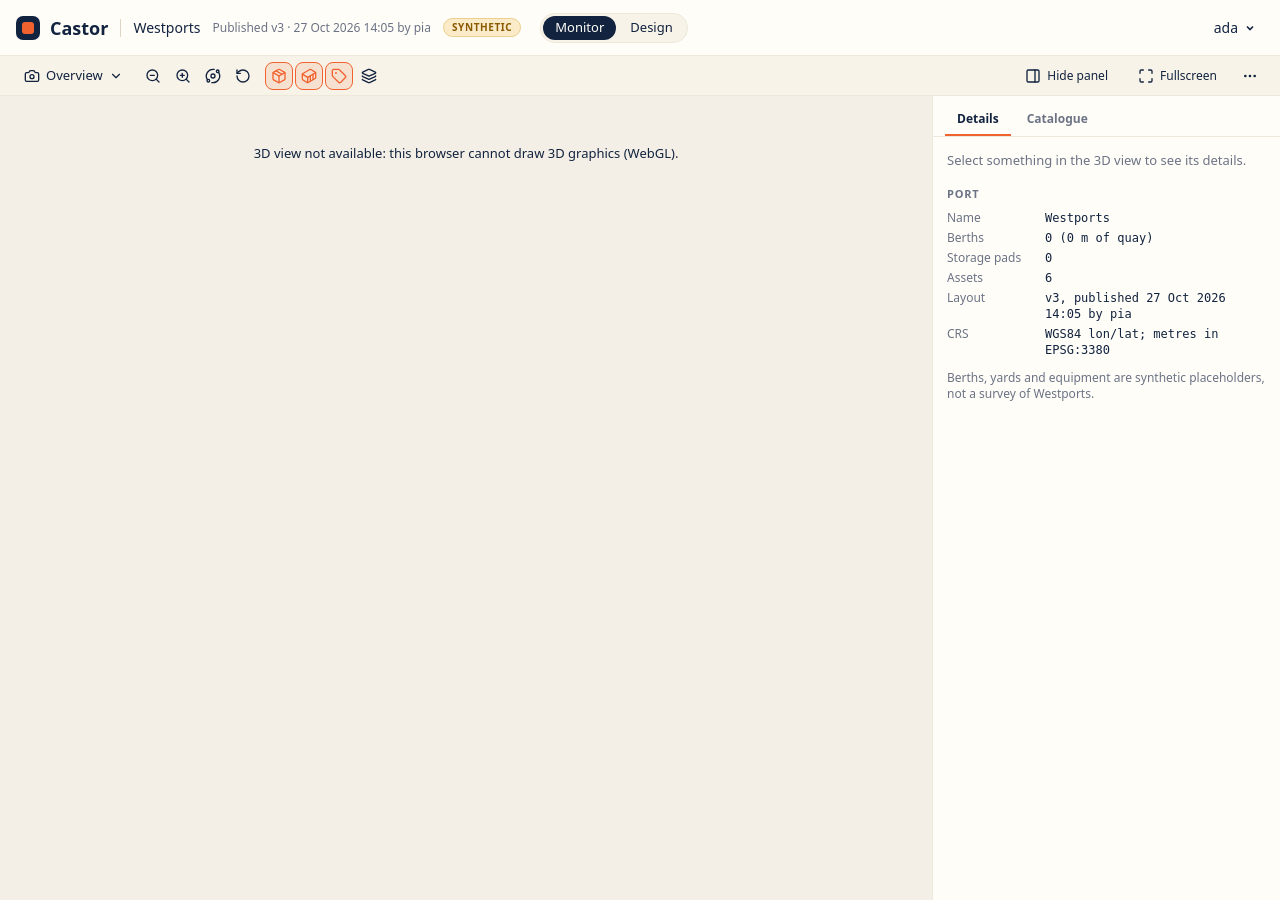
Test: app shell › switches an editor to Design with its panel tabs, without leaving the page
This screenshot has width=1280, height=900.
Click the button "Design".
click(652, 28)  # box [618, 16, 685, 40]
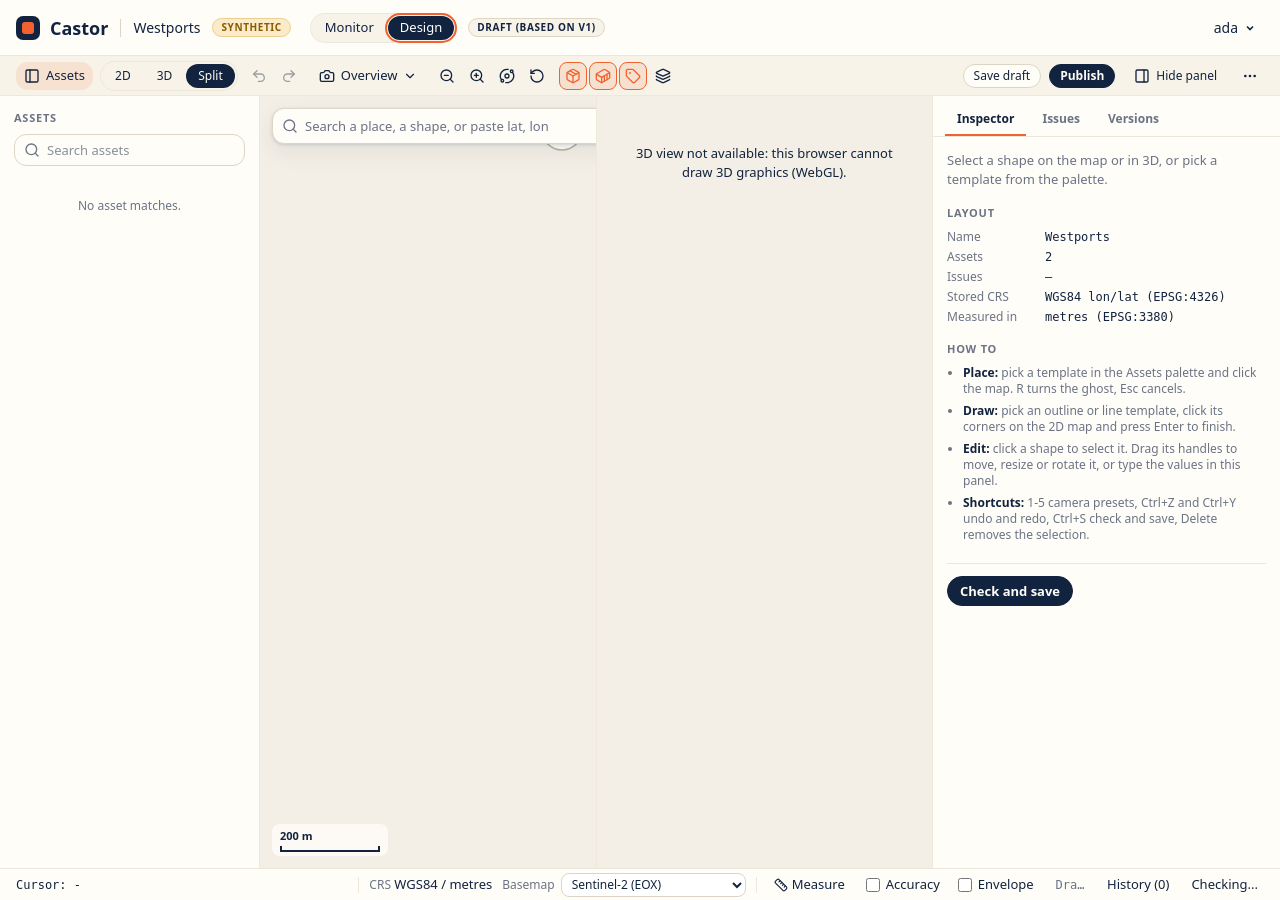
Now the tabs read "Inspector", "Issues", "Versions", in this order, box [945, 104, 1026, 136]; [1030, 104, 1092, 136]; [1096, 104, 1171, 136]
Now the element named "Asset palette" is shown, box [0, 96, 260, 868]
